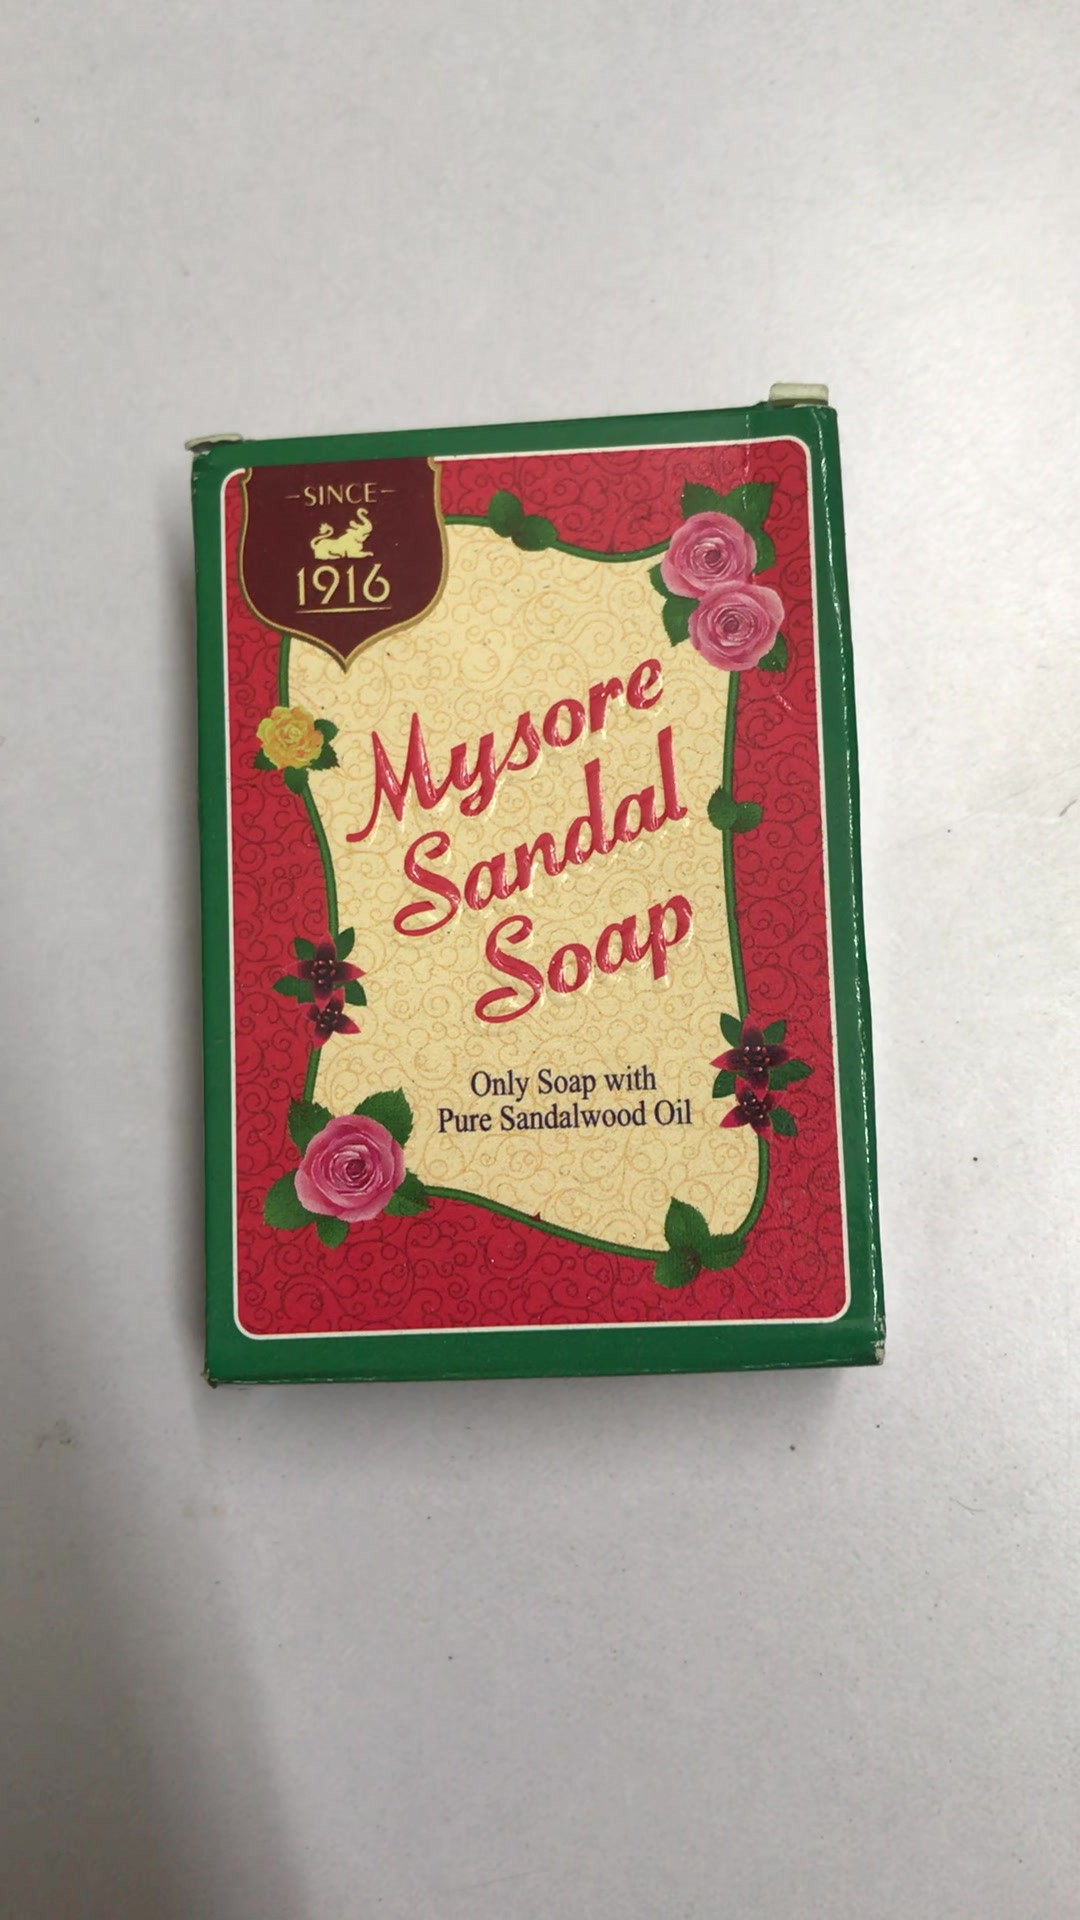mysore sandal soap: (174, 413, 882, 1375)
